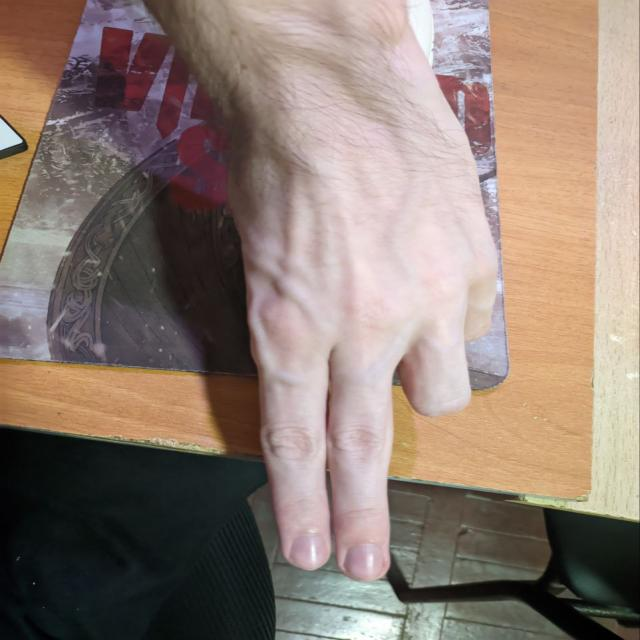p: (168, 86, 548, 592)
